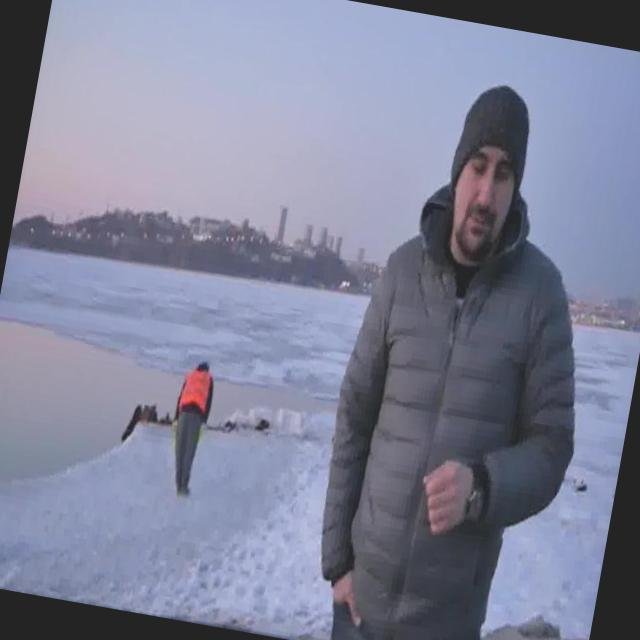no-gloves: (416, 452, 482, 542)
no-helmet: (435, 126, 528, 266)
vest: (175, 362, 212, 419)
